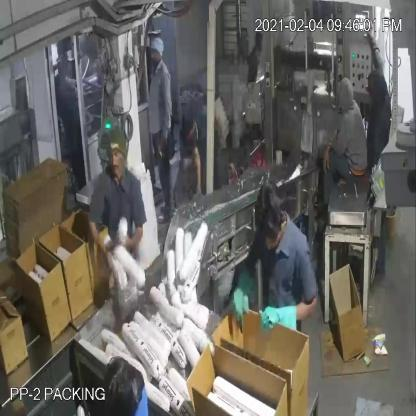glove: (260, 293, 324, 348), (226, 258, 256, 324)
no_glove: (155, 64, 178, 154), (83, 214, 114, 266), (116, 213, 151, 257), (364, 20, 389, 79), (312, 132, 334, 180), (189, 136, 204, 204)
